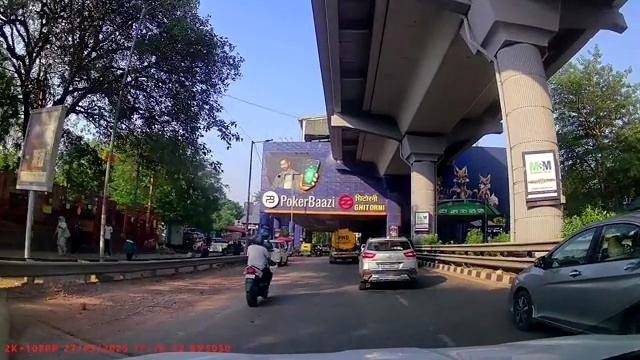motorcycle_with_helmet: (242, 232, 274, 307)
